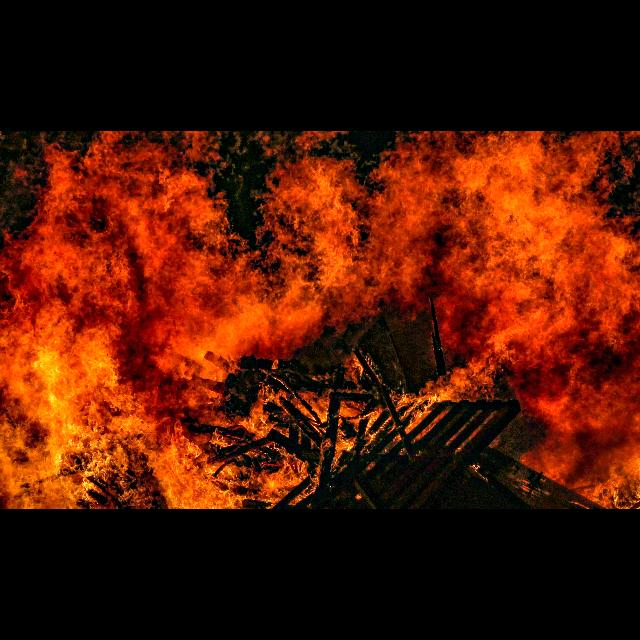fire: (0, 152, 562, 509)
